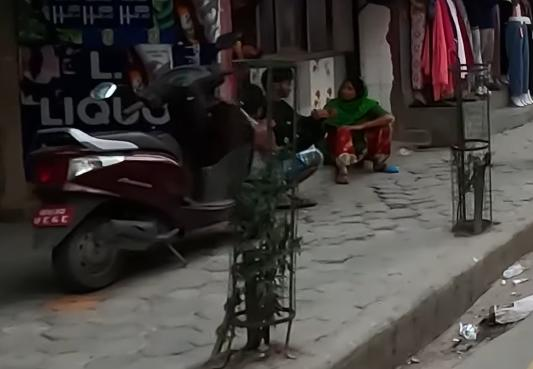scooter: (17, 50, 277, 287)
